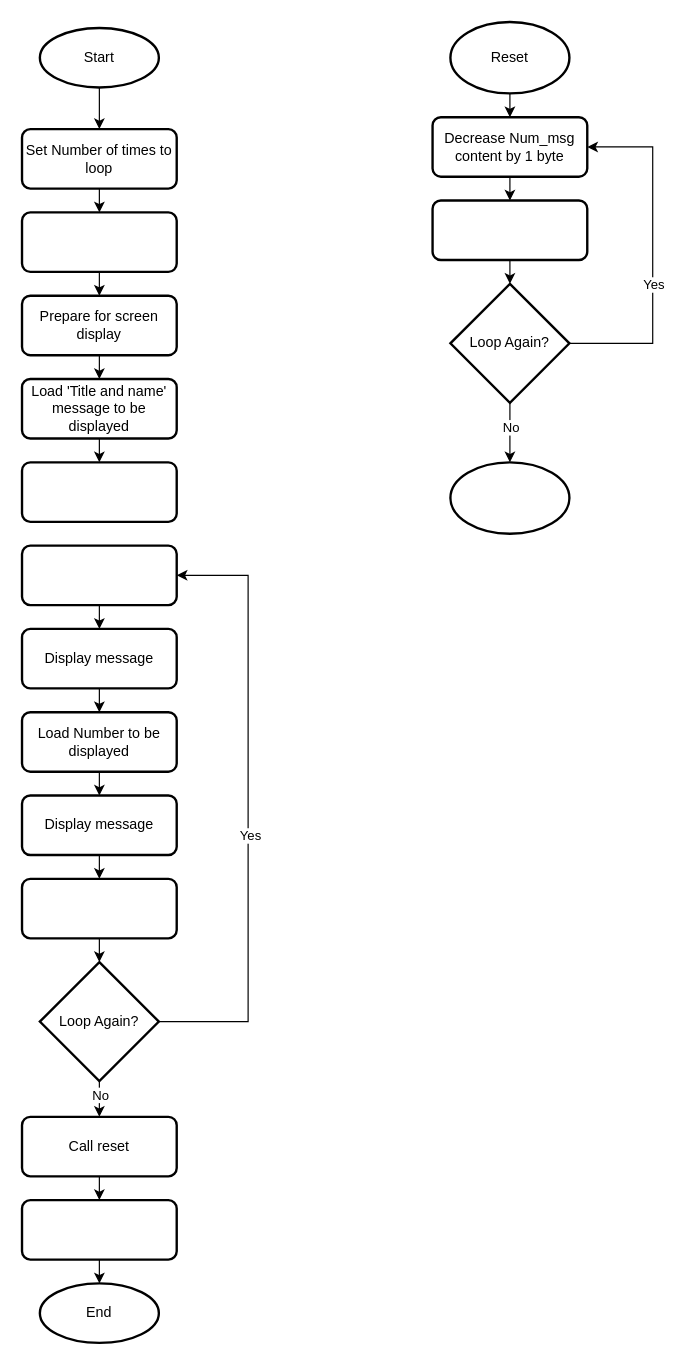
This 684x1364 diagram has some shape labels left out. The centre of each missing label's shape, as x and y in pixels:
"Decrease saved loop count by 1" belongs at (x=509, y=230).
"Display Title and name" belongs at (x=98, y=491).
"End Program" belongs at (x=98, y=1229).
"Load 'Hello World' message to be displayed" belongs at (x=98, y=575).
"Move to next Number to be displayed" belongs at (x=98, y=908).
"Return" belongs at (x=509, y=497).
"Save loop times to use for resetting Num_msg content" belongs at (x=98, y=242).
